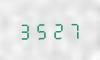five: (34, 20, 49, 40)
seven: (66, 19, 81, 39)
three: (18, 20, 33, 40)
two: (50, 19, 65, 39)
